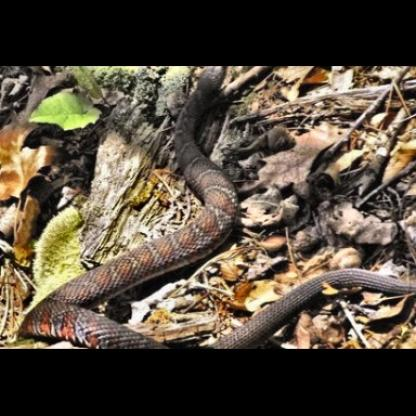Snake: (7, 70, 411, 348)
